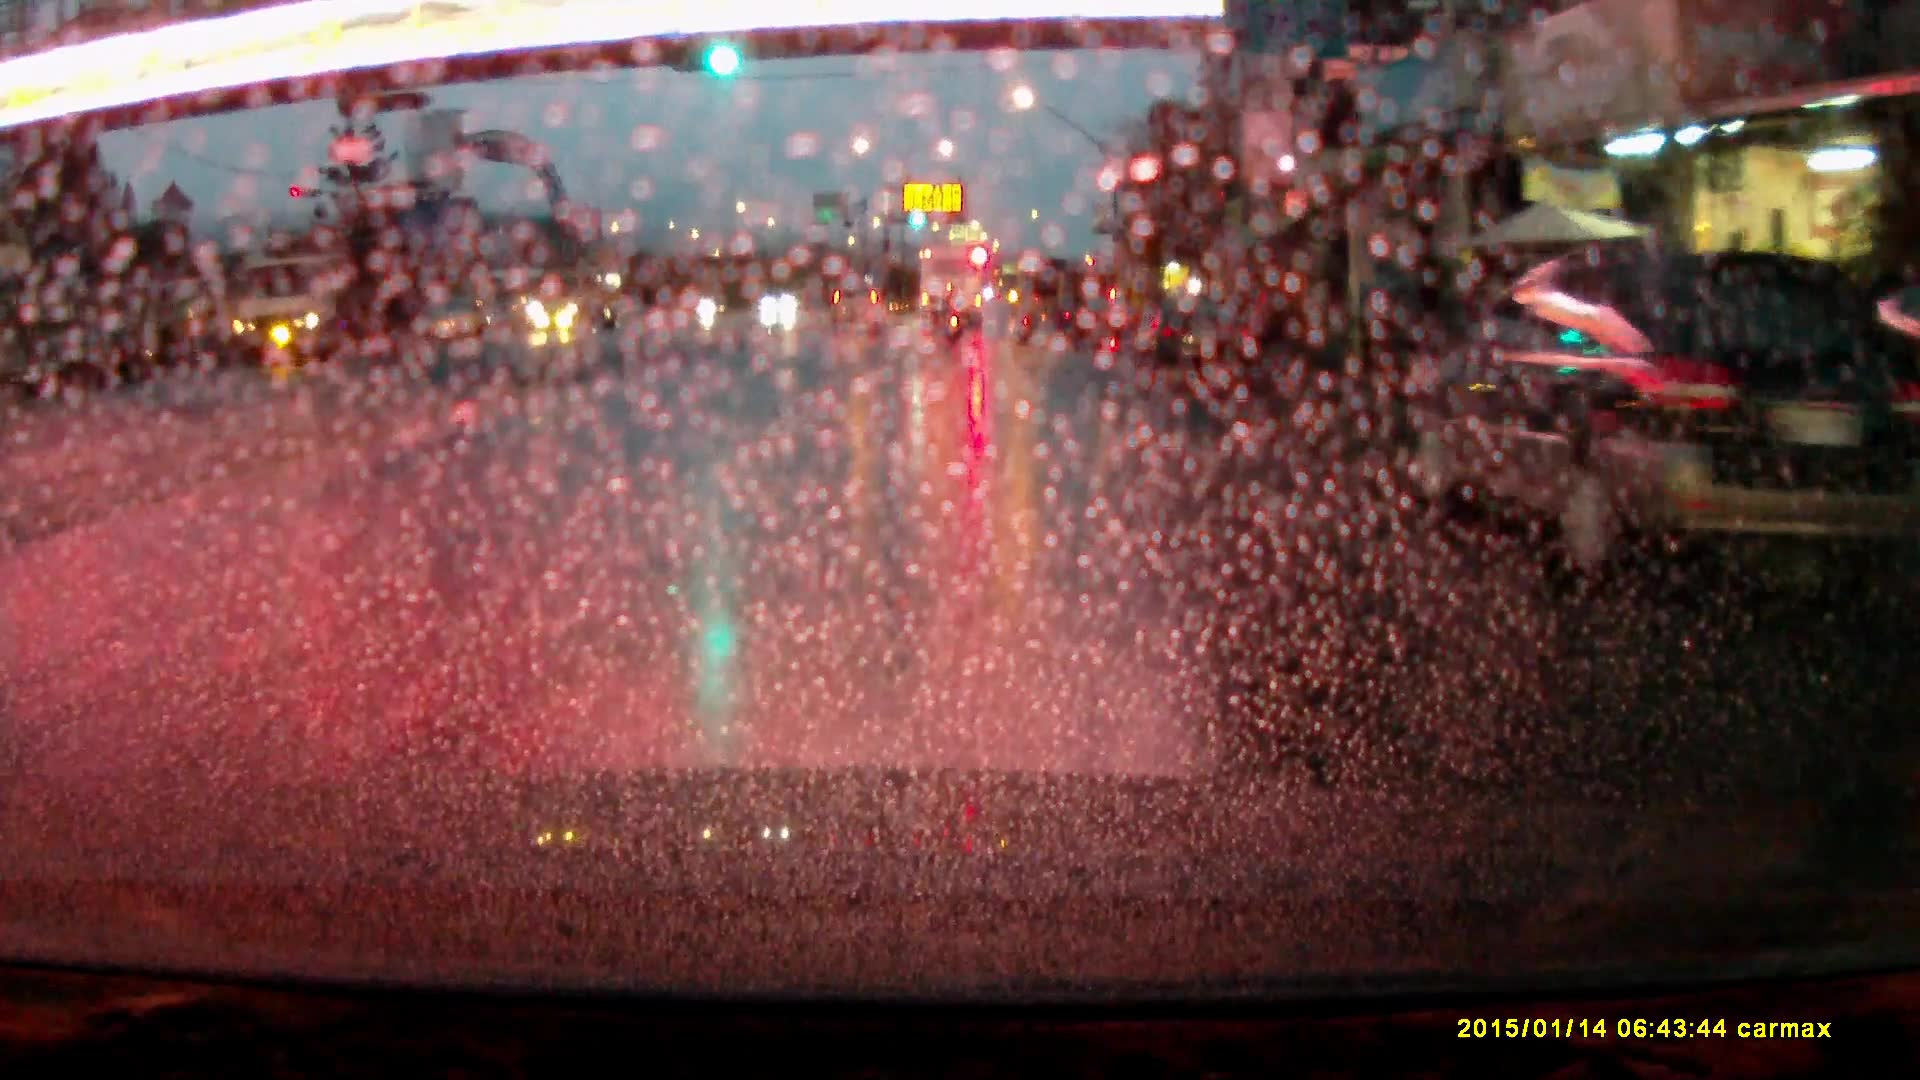rider: (945, 286, 966, 338)
vehicle: (1410, 244, 1851, 586), (227, 252, 411, 359), (1142, 299, 1254, 385), (532, 262, 625, 331), (919, 236, 986, 330), (1070, 296, 1137, 348), (829, 274, 886, 321)
